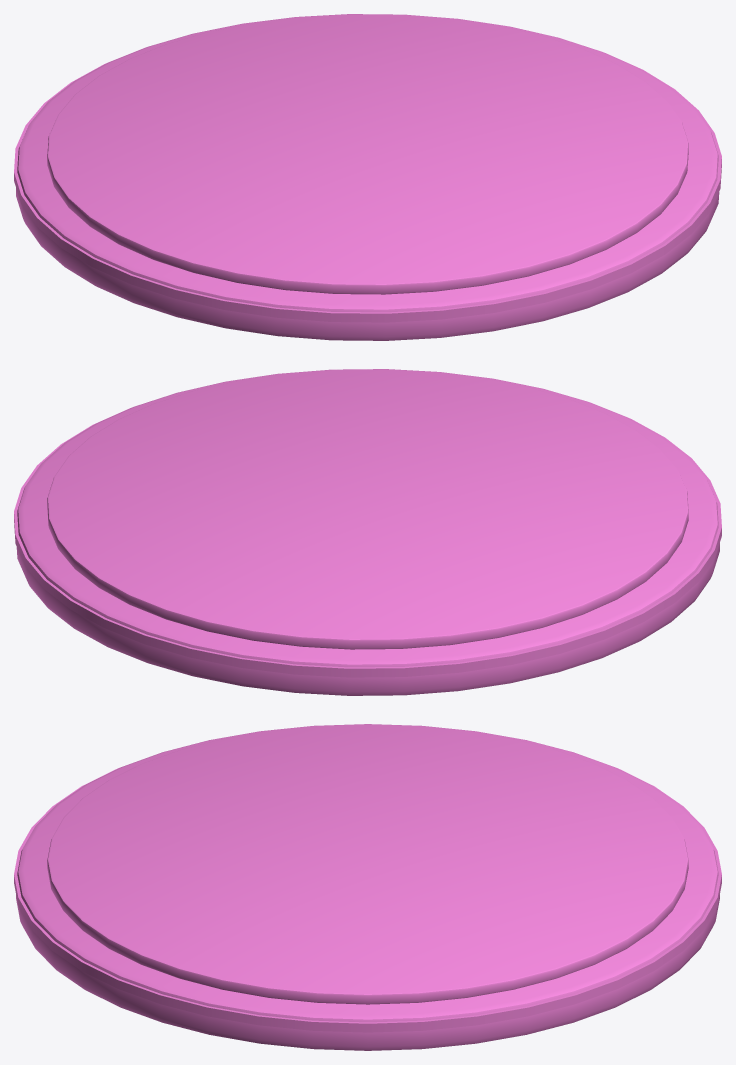
The model's file is Hub_Plinth.fbx.
3 views of the same model, one above another, from view 1: azimuth 30°, elevation 25°; view 2: azimuth 150°, elevation 25°; view 3: azimuth 270°, elevation 25° (orthographic).
Visible parts, largest first — view 1: Plinth; view 2: Plinth; view 3: Plinth.
Boxes of the visible parts, bbox=[...] form: Plinth: bbox=[14, 14, 721, 340]; Plinth: bbox=[14, 369, 721, 695]; Plinth: bbox=[14, 724, 721, 1050].
Bounding box in the file's own units: 18.1 × 1.3 × 18.1.
1 material, 1 textured.
